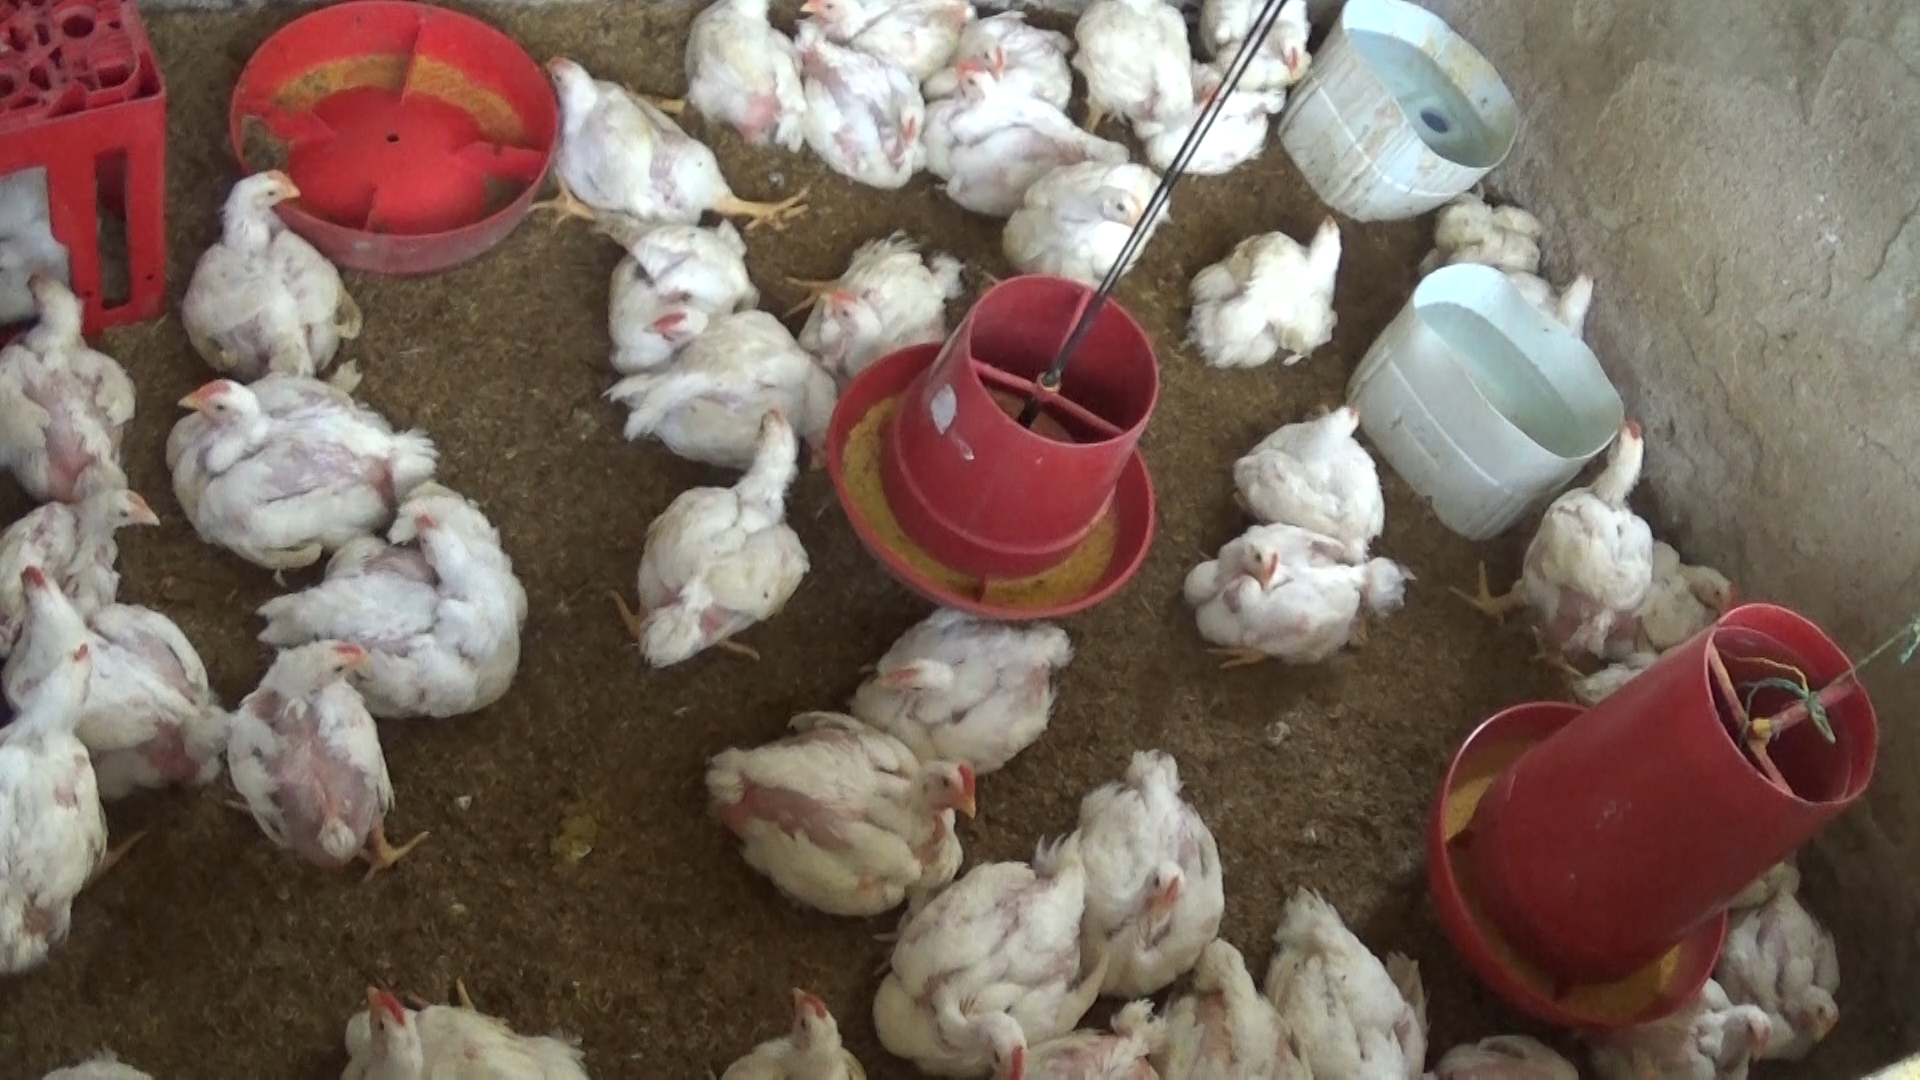Pollos: (255, 472, 527, 708), (686, 698, 976, 911), (514, 36, 816, 232), (157, 368, 442, 574), (1452, 411, 1660, 674), (616, 402, 814, 676), (872, 855, 1105, 1069), (225, 632, 422, 880), (12, 560, 222, 775), (1176, 513, 1408, 702), (173, 162, 363, 386), (1060, 738, 1232, 986), (617, 276, 836, 468), (861, 589, 1069, 775), (0, 632, 109, 984), (0, 268, 141, 491), (1222, 396, 1408, 563), (1276, 868, 1422, 1080), (0, 479, 170, 659), (928, 61, 1127, 215), (306, 963, 562, 1080), (1171, 214, 1366, 359), (647, 0, 827, 156), (603, 189, 750, 371), (786, 243, 972, 382), (799, 34, 952, 196), (1735, 864, 1869, 1047), (1004, 162, 1178, 280), (1145, 49, 1279, 174), (1071, 0, 1187, 135), (804, 0, 988, 84), (1617, 984, 1776, 1080), (716, 984, 874, 1080), (964, 7, 1085, 105), (1622, 545, 1733, 644), (1205, 0, 1316, 98)
